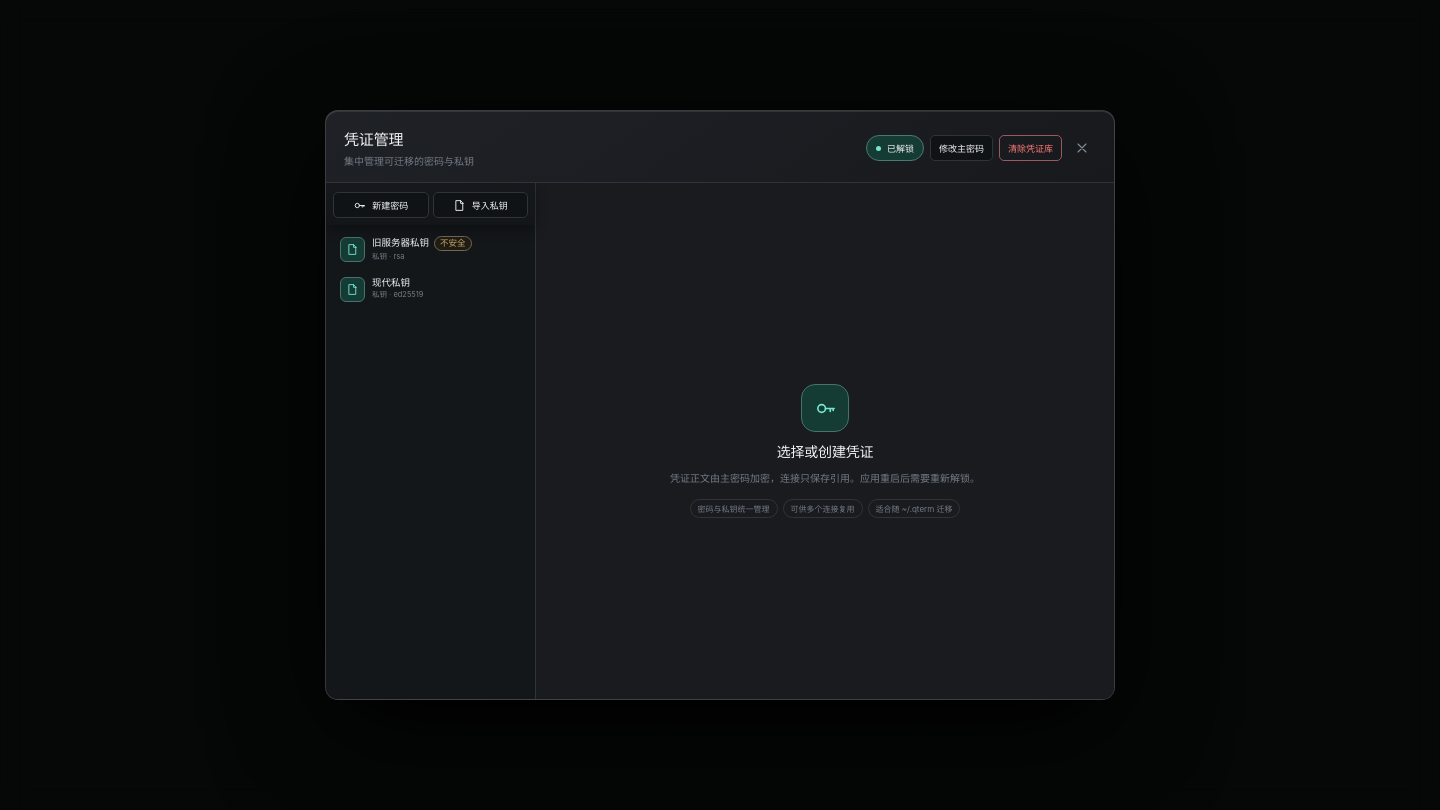
it: CredentialDialog › marks RSA credential names as unsafe in the list and detail heading
Expected: the text with class "credential-security-tag" reads "不安全", 440,238 -> 466,248
Hover over the text with class "credential-security-tag" at (453, 244), box 434,236 -> 472,251
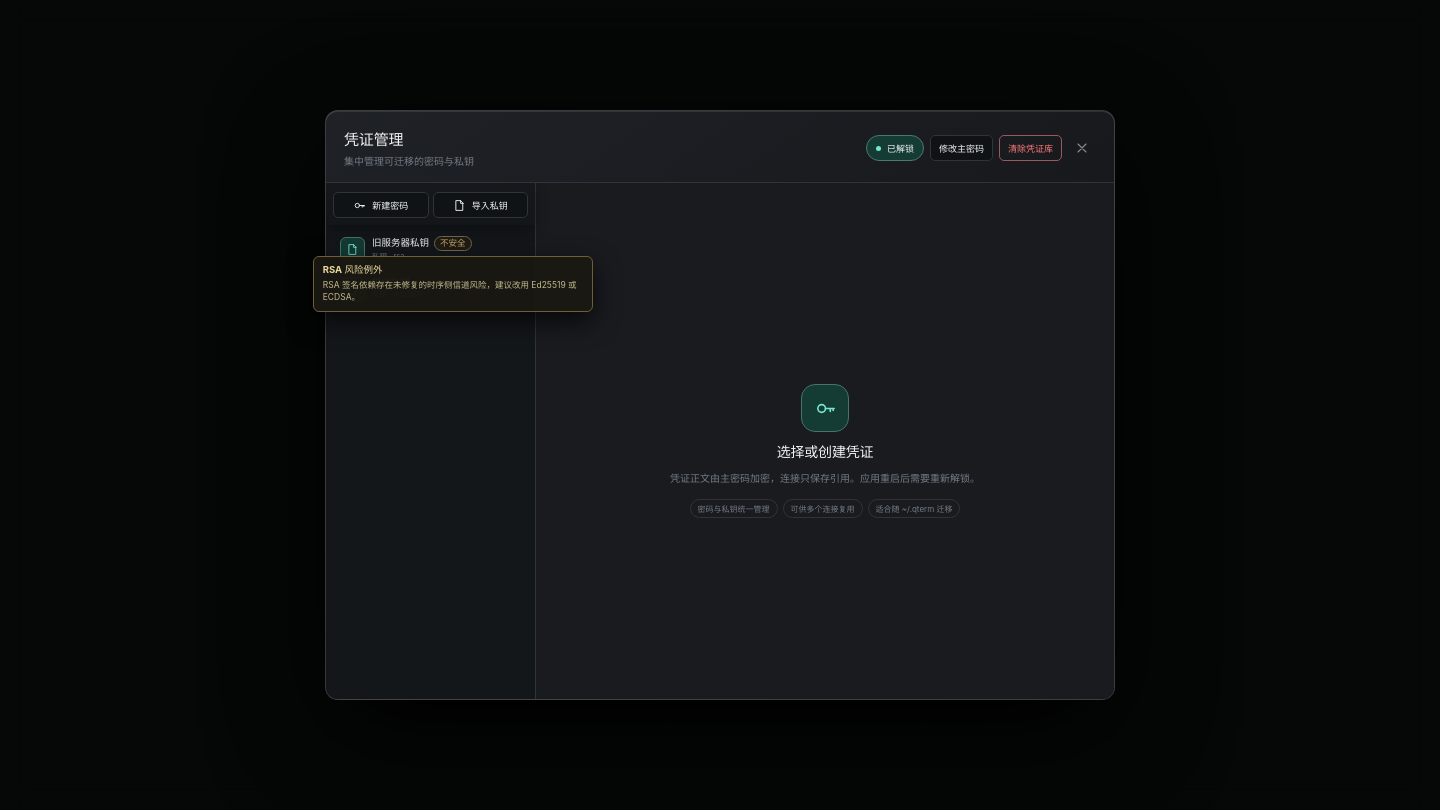
Expected: the tooltip shows "RSA 签名依赖存在未修复的时序侧信道风险", 323,280 -> 577,302
Expected: the tooltip shows "建议改用 Ed25519 或 ECDSA", 323,280 -> 577,302
Move the pointer off the text with class "credential-security-tag", box 434,236 -> 472,251
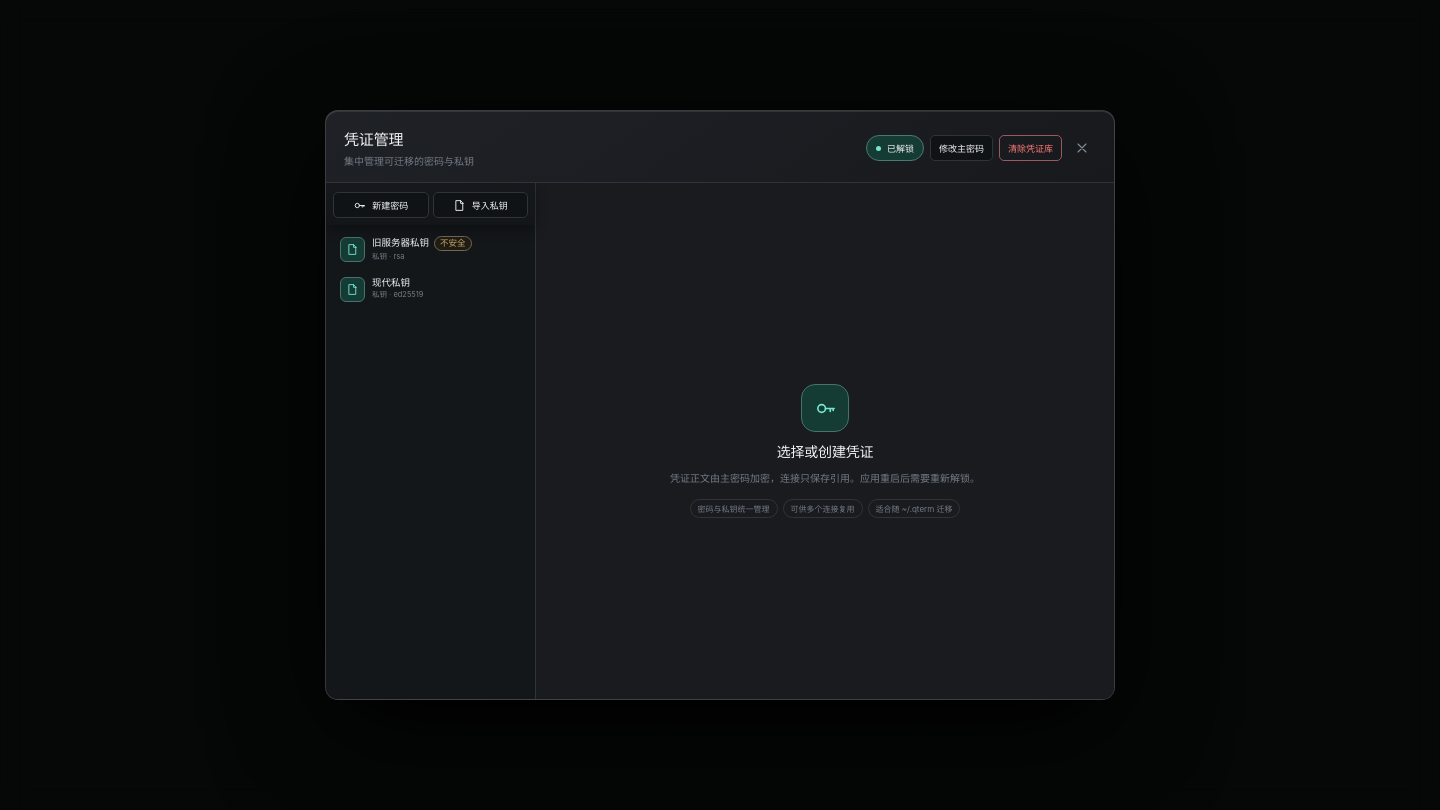
Expected: the tooltip "RSA 风险例外 RSA 签名依赖存在未修复的时序侧信道风险，建议改用 Ed25519 或 ECDSA。" is gone
Click the button "旧服务器私钥 不安全 私钥 · rsa" at (430, 249), box 333,230 -> 528,268
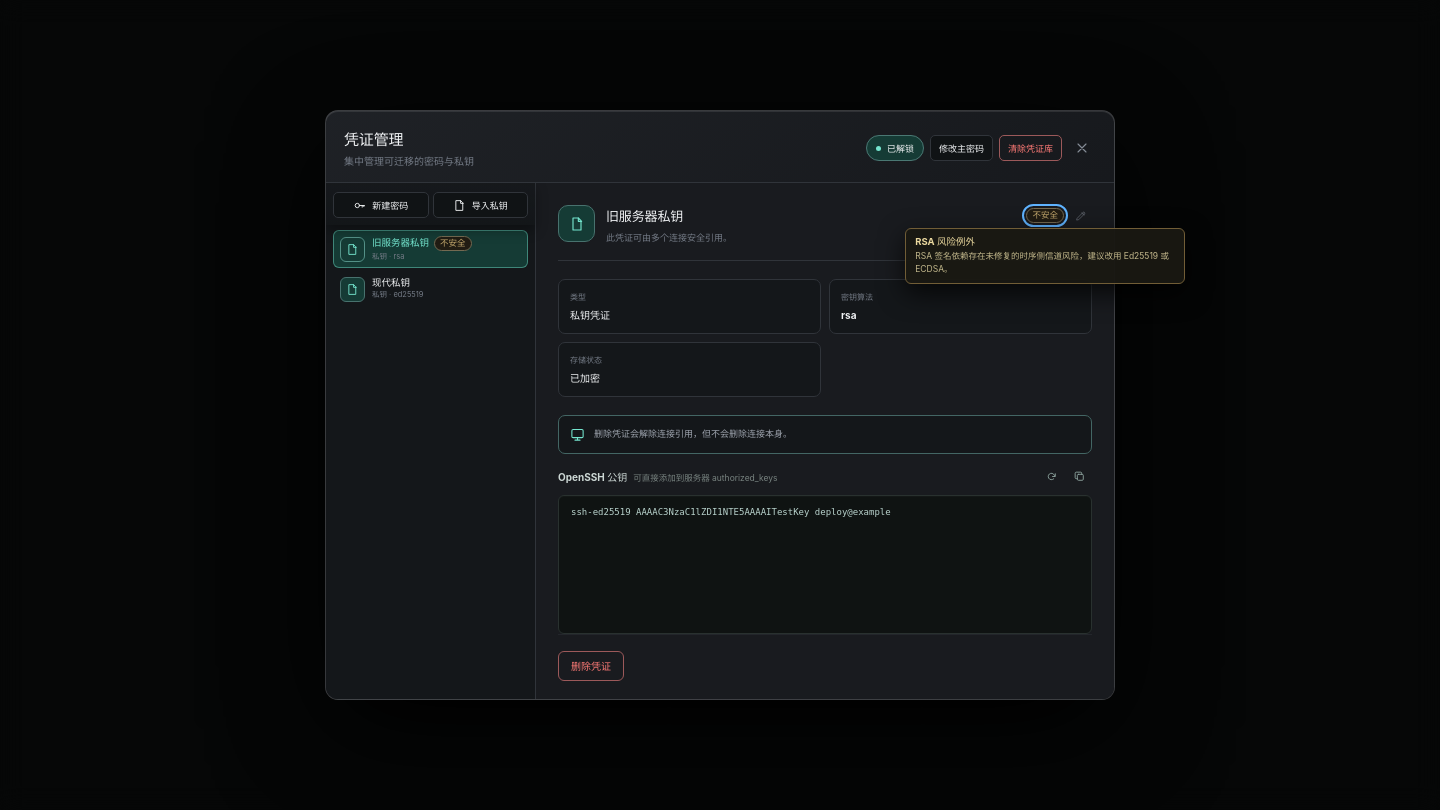
Expected: the 1st text with class "credential-security-tag" reads "不安全", 1032,210 -> 1058,220
Expected: the tooltip shows "RSA 签名依赖存在未修复的时序侧信道风险", 915,251 -> 1169,274
